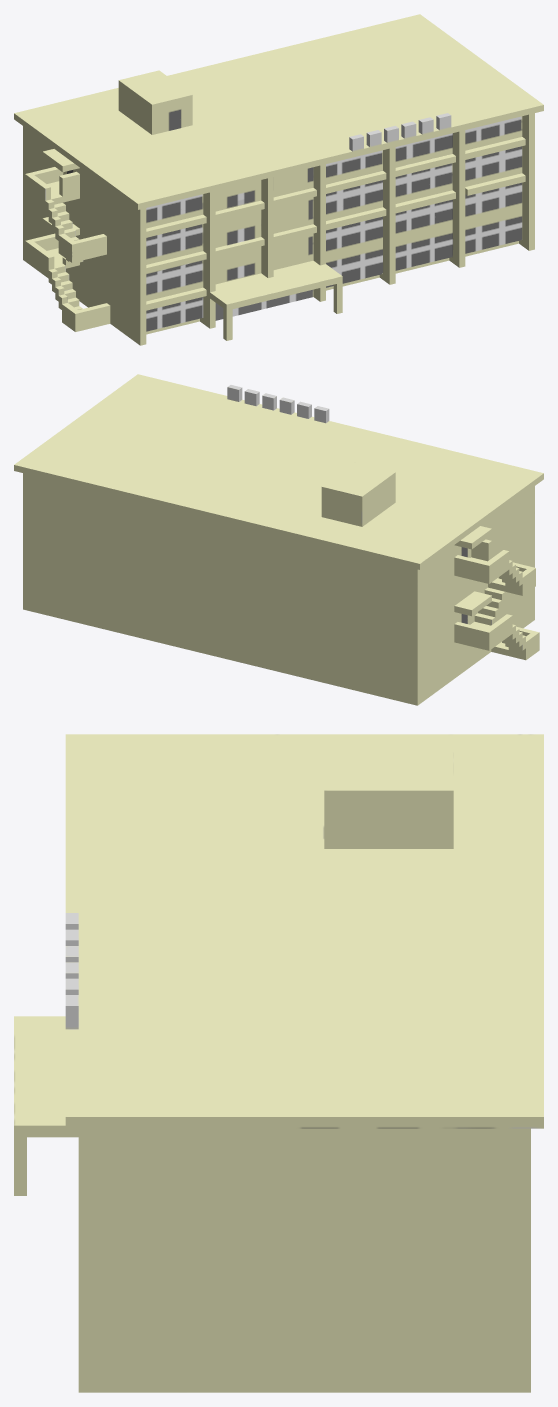
Rendered from shougakkou.glb.
The picture shows the model from 3 angles, top to bottom: view 1: azimuth 30°, elevation 25°; view 2: azimuth 150°, elevation 25°; view 3: azimuth 270°, elevation 25°; orthographic projection. The views are drawn at different scales.
Parts seen in each view (by area): view 1: shougakkou; view 2: shougakkou; view 3: shougakkou.
Part boxes in pixels (x1,y1,x2,y2): shougakkou: (14,14,543,345); shougakkou: (14,374,543,705); shougakkou: (14,734,543,1392).
Size of the model in its own units: 1.5 by 0.58 by 0.82.
Materials: 1 (1 with a texture image).
